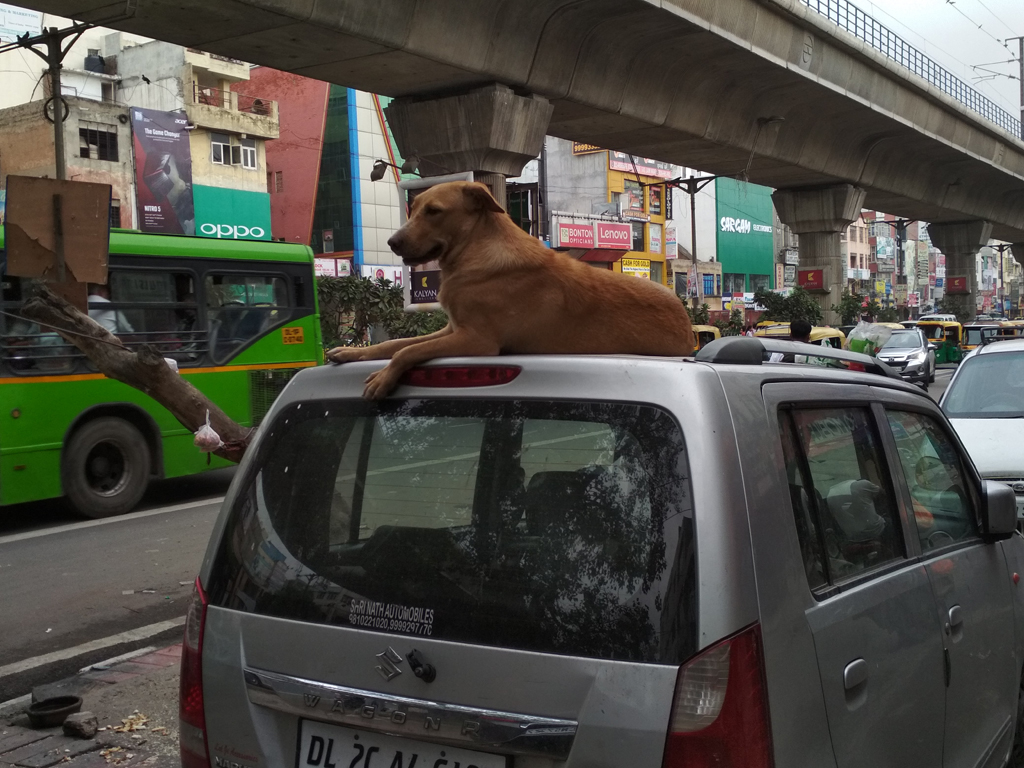dog: (324, 185, 697, 400)
